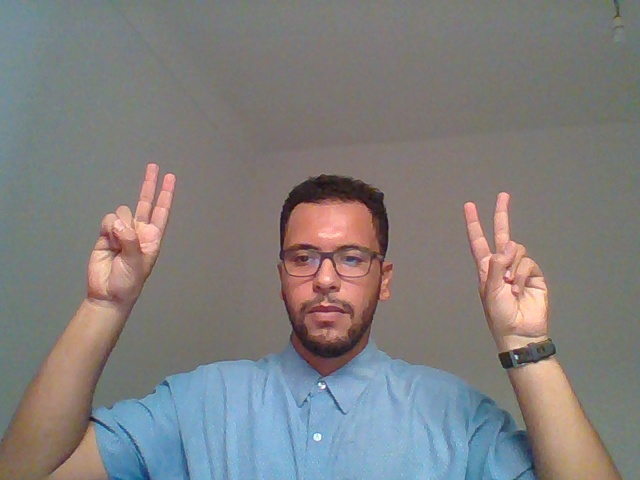vectory: (434, 177, 602, 479), (55, 137, 189, 410)
